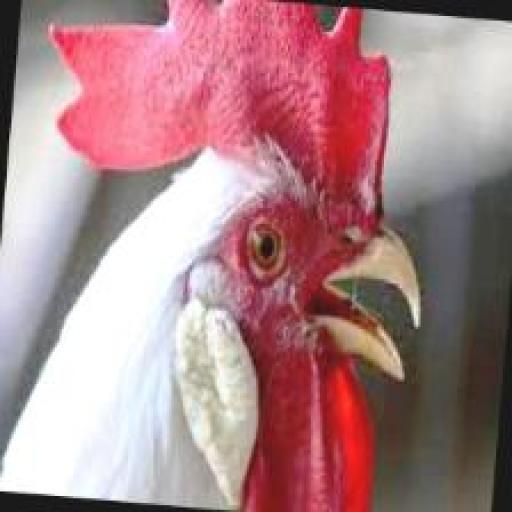healthy: (144, 57, 407, 360)
